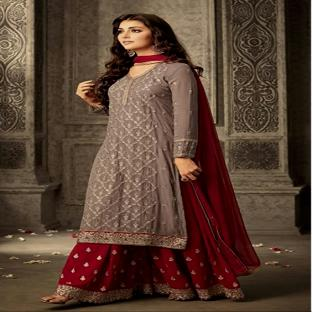Human: (41, 14, 260, 303)
